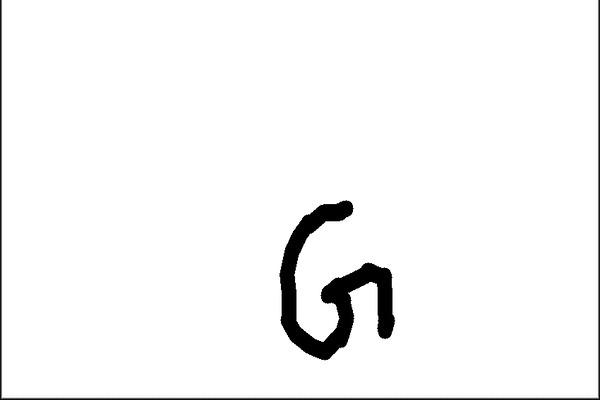G: (274, 196, 396, 362)
